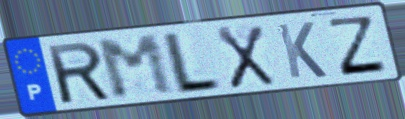K: (274, 20, 330, 81)
L: (162, 30, 223, 97)
M: (93, 32, 179, 102)
R: (44, 39, 114, 107)
X: (213, 24, 278, 91)
Z: (326, 15, 390, 78)
